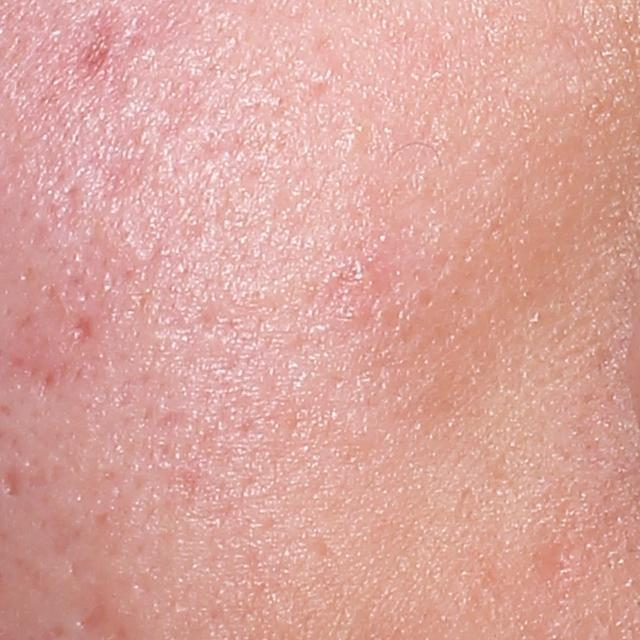atrophic_scar: (64, 318, 102, 347), (75, 609, 110, 636)
